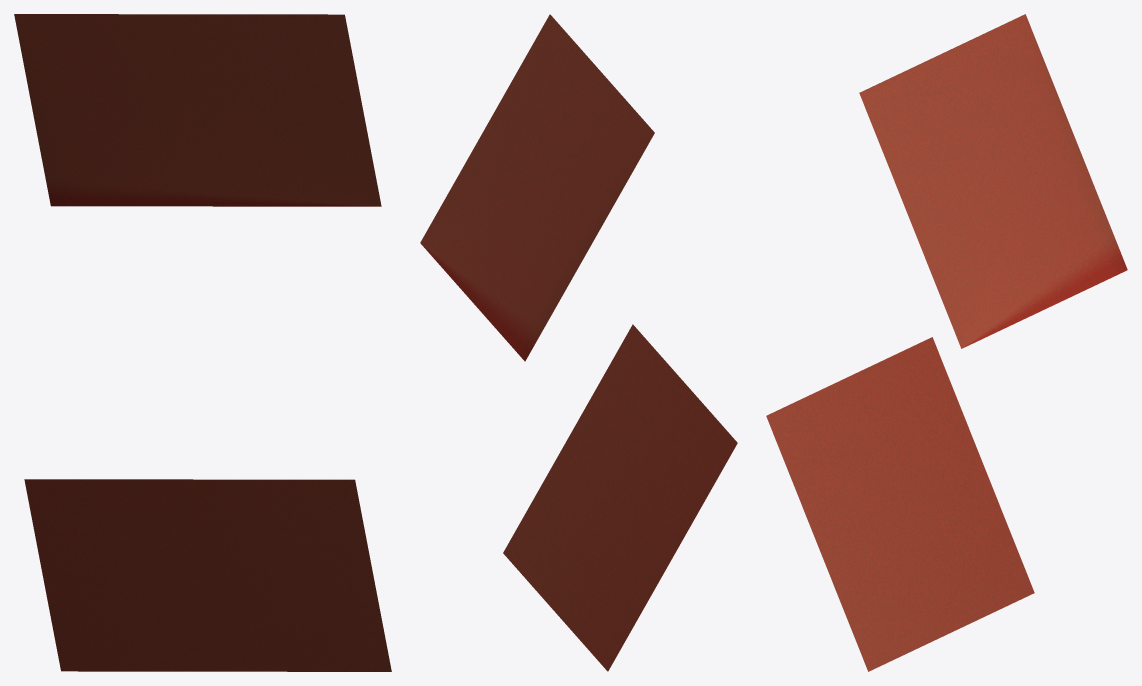
Rendered from icon_hibernate_brown.glb.
3 views of the same model, side by side, from view 1: azimuth 30°, elevation 25°; view 2: azimuth 150°, elevation 25°; view 3: azimuth 270°, elevation 25° (orthographic). The views are drawn at different scales.
Visible parts, largest first — view 1: icon_hibernate_brown; view 2: icon_hibernate_brown; view 3: icon_hibernate_brown.
Part boxes in pixels (x1,y1,x2,y2): icon_hibernate_brown: (14, 14, 391, 671); icon_hibernate_brown: (420, 14, 737, 671); icon_hibernate_brown: (766, 14, 1127, 671).
Bounding box in the file's own units: 1.7 × 2.99 × 1.72.
Materials: 1 (1 with a texture image).
